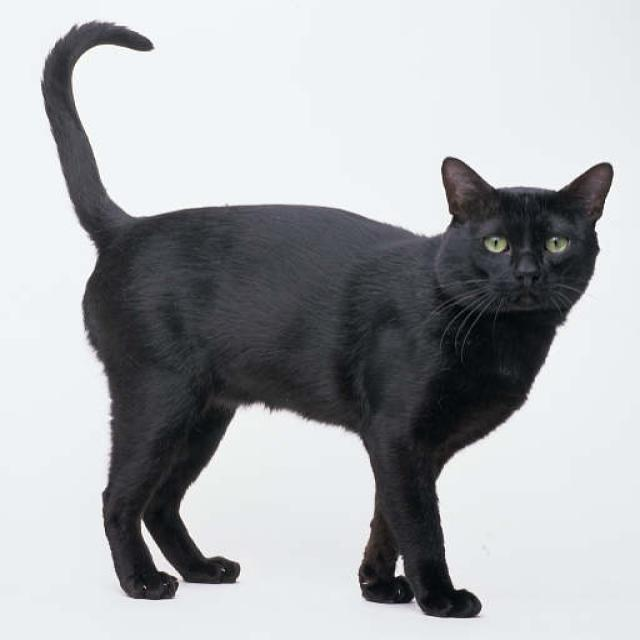Bombay: (429, 148, 625, 330)
